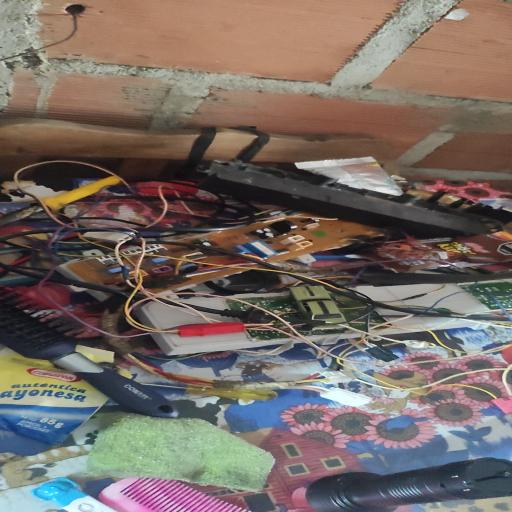Carrito: (291, 285, 346, 324)
